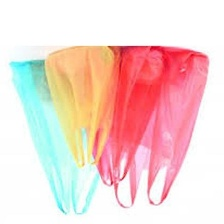plastic_bag: (110, 42, 213, 214), (6, 54, 103, 219), (84, 43, 167, 192), (39, 40, 119, 171)
